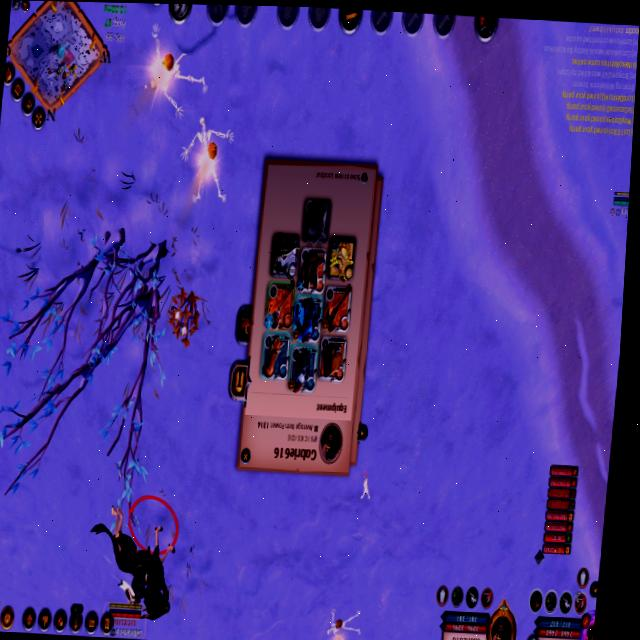hide: (161, 281, 211, 351)
red: (80, 481, 188, 640), (604, 180, 630, 222)
